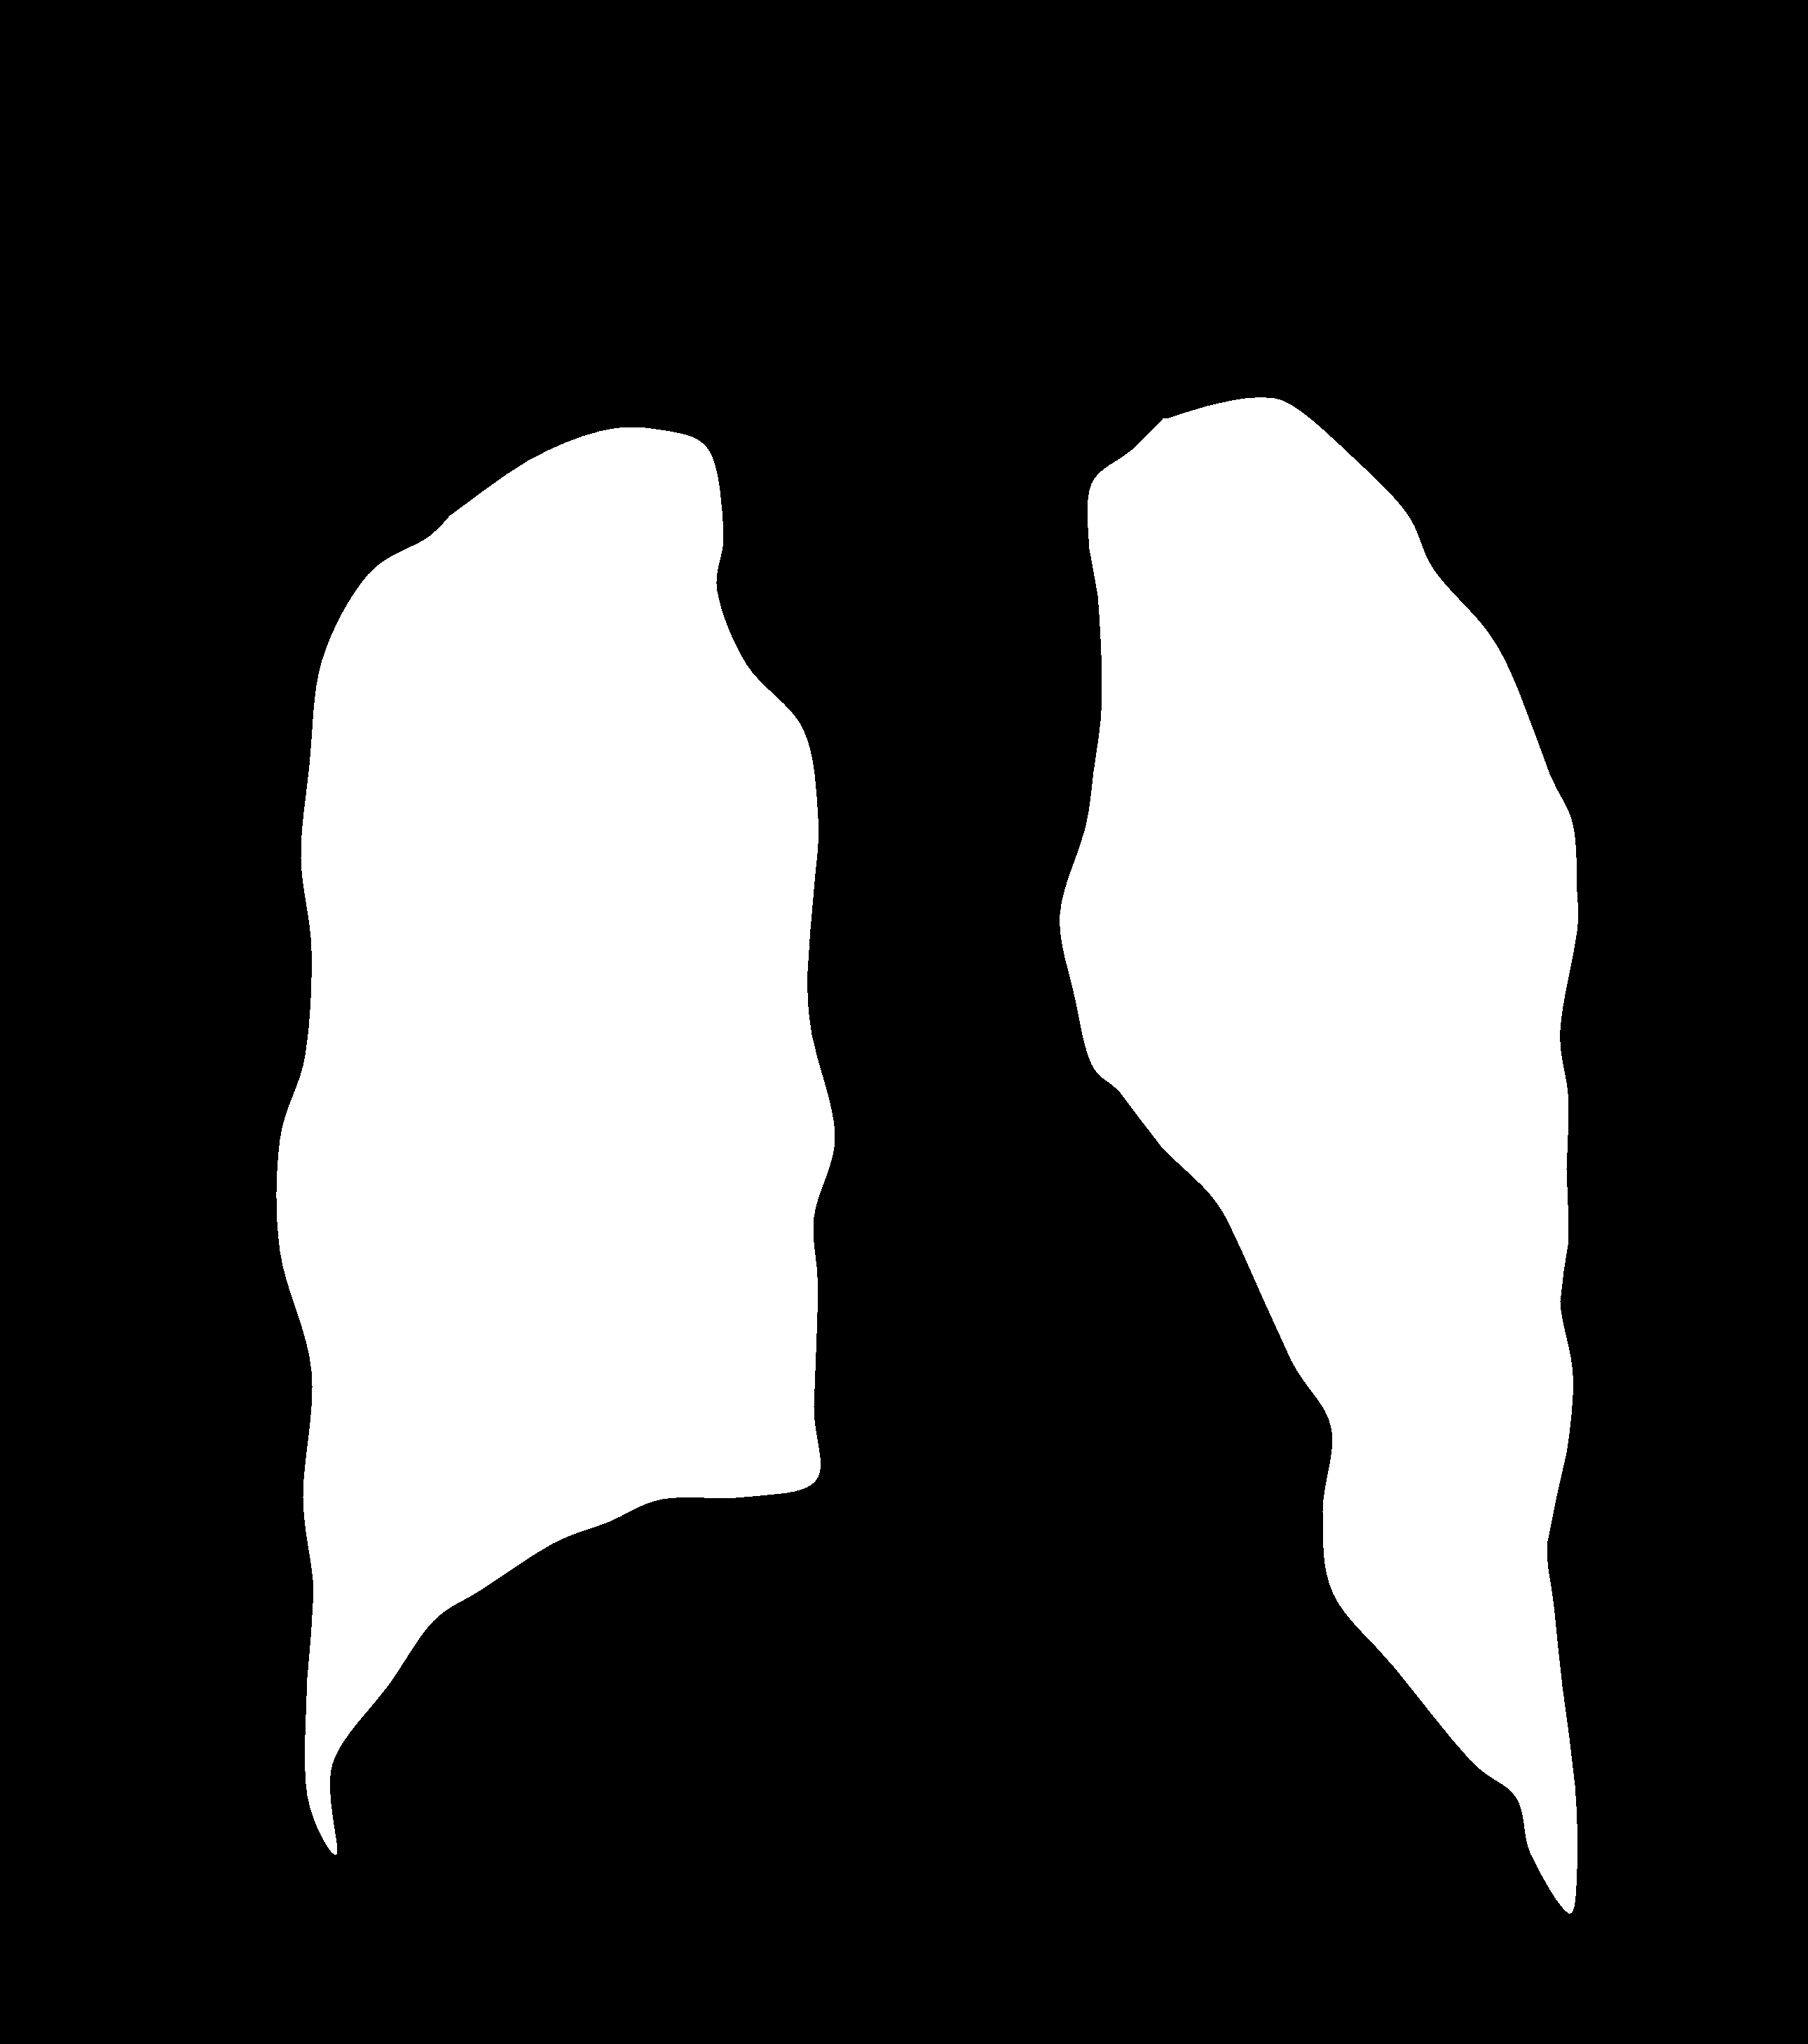heart: (791, 1159, 1337, 1735)
left_lung: (281, 428, 834, 1862)
right_lung: (1059, 398, 1574, 1929)
